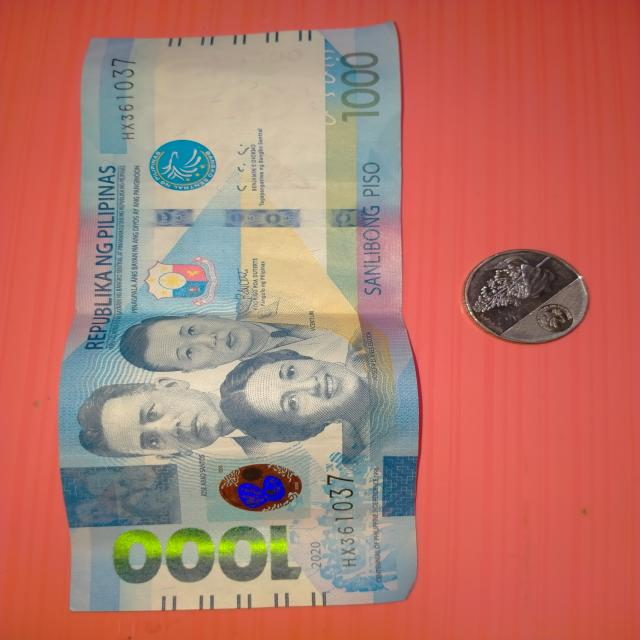concealed_value: (60, 462, 187, 525)
optically_variable_device: (204, 457, 313, 520)
see_through_mark: (298, 42, 340, 152)
